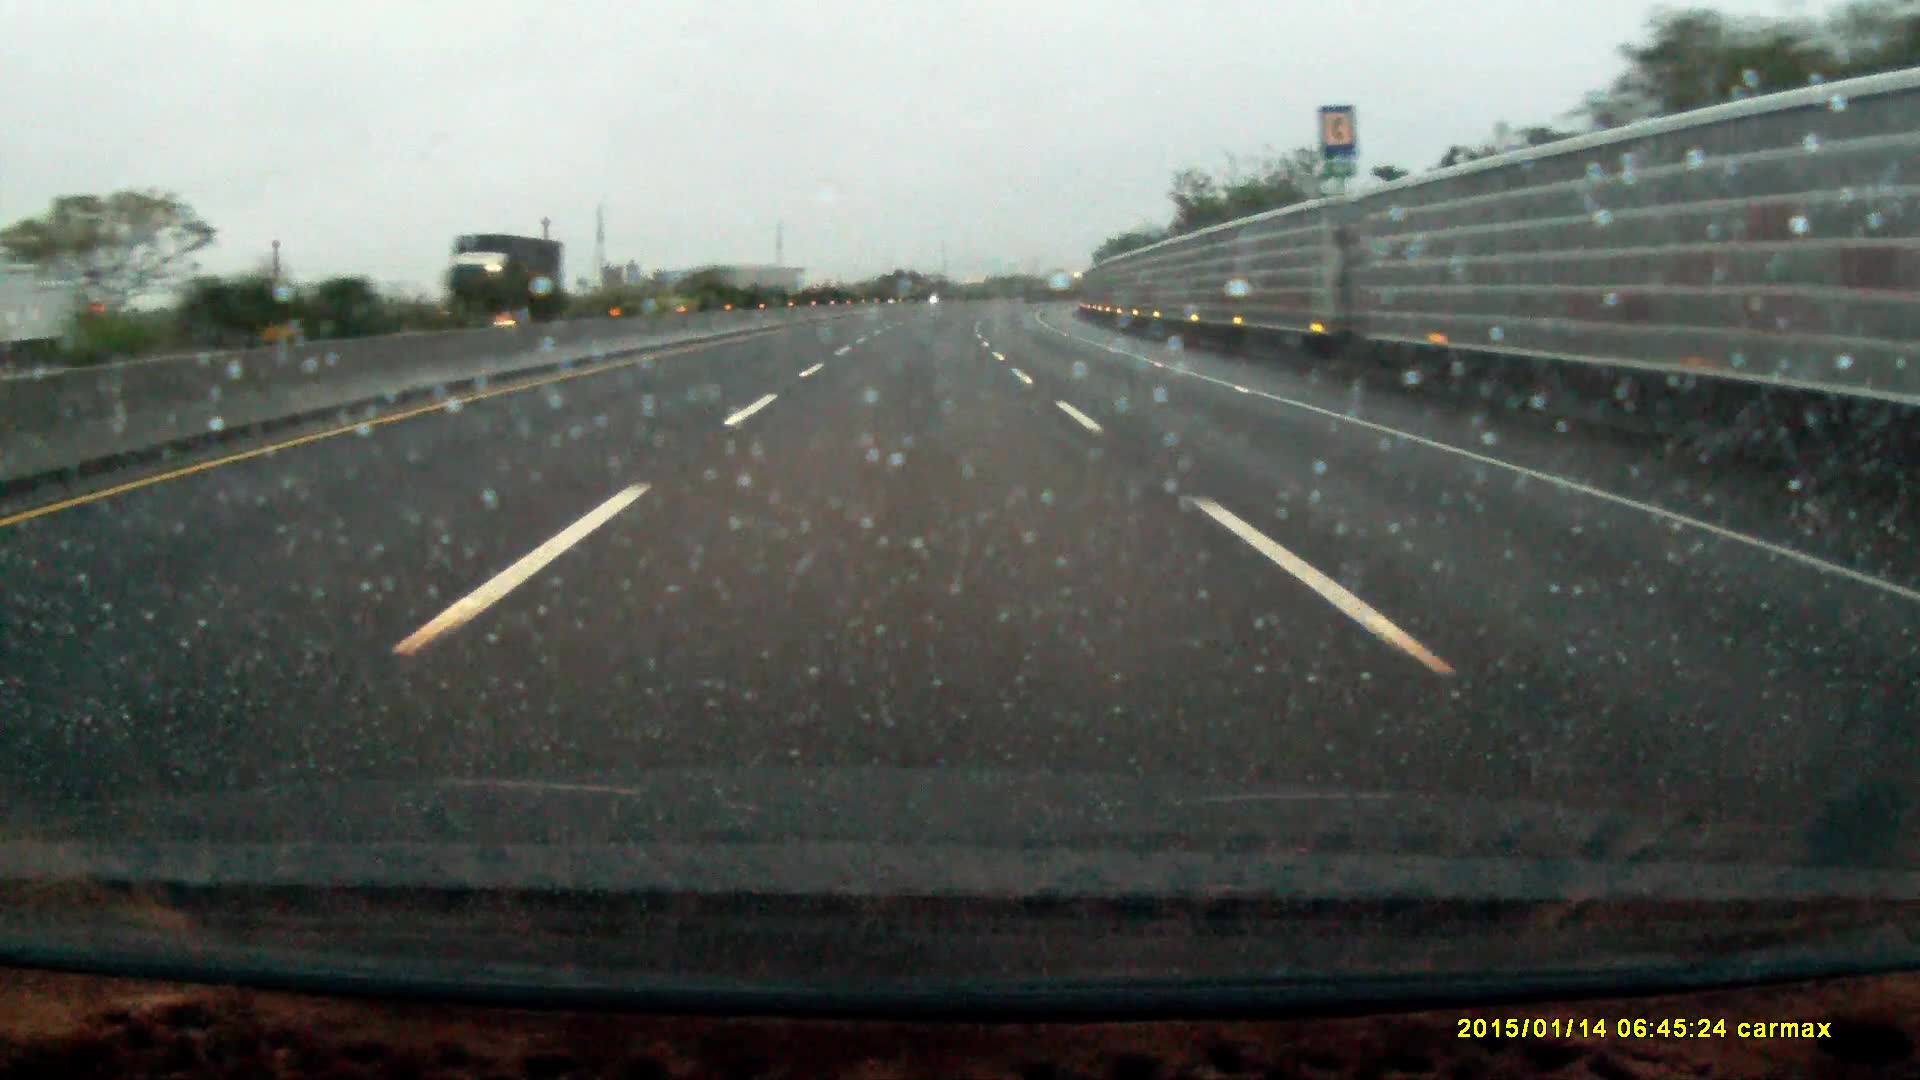vehicle: (440, 232, 567, 328)
